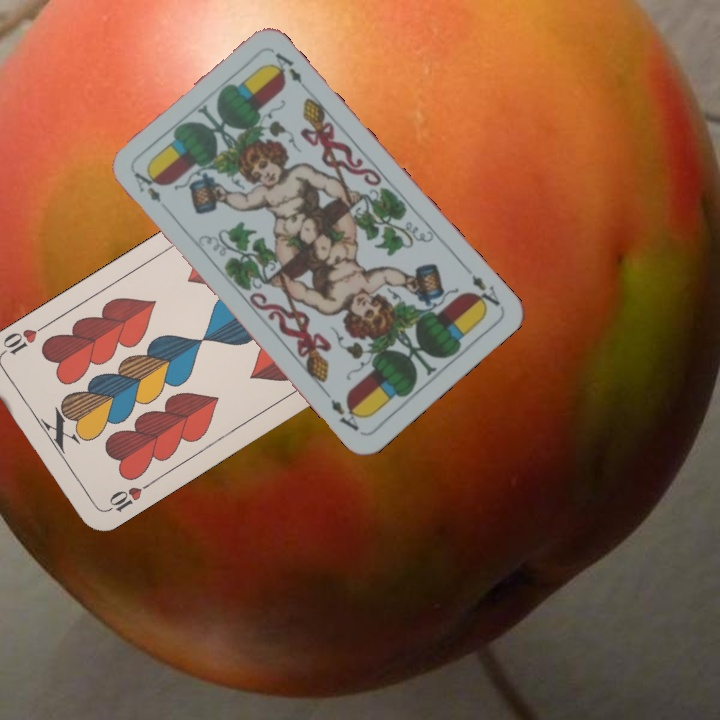EA: (467, 270, 503, 314), (129, 167, 164, 206)
H10: (99, 479, 153, 516)
